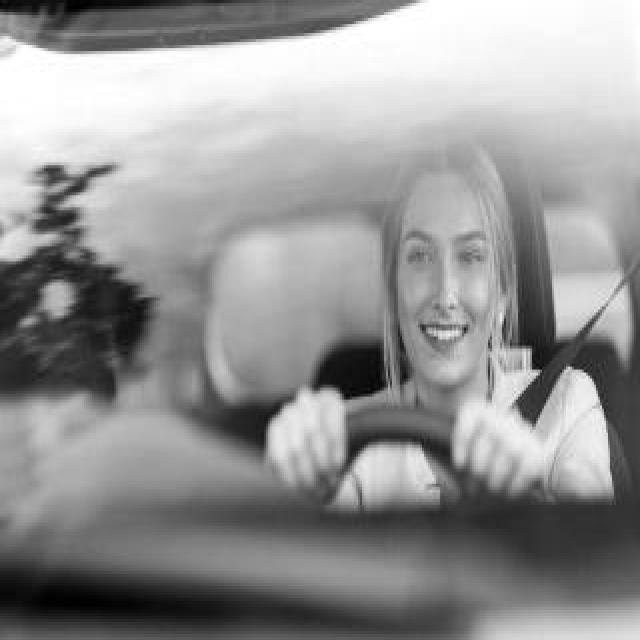Focused: (394, 212, 494, 363)
